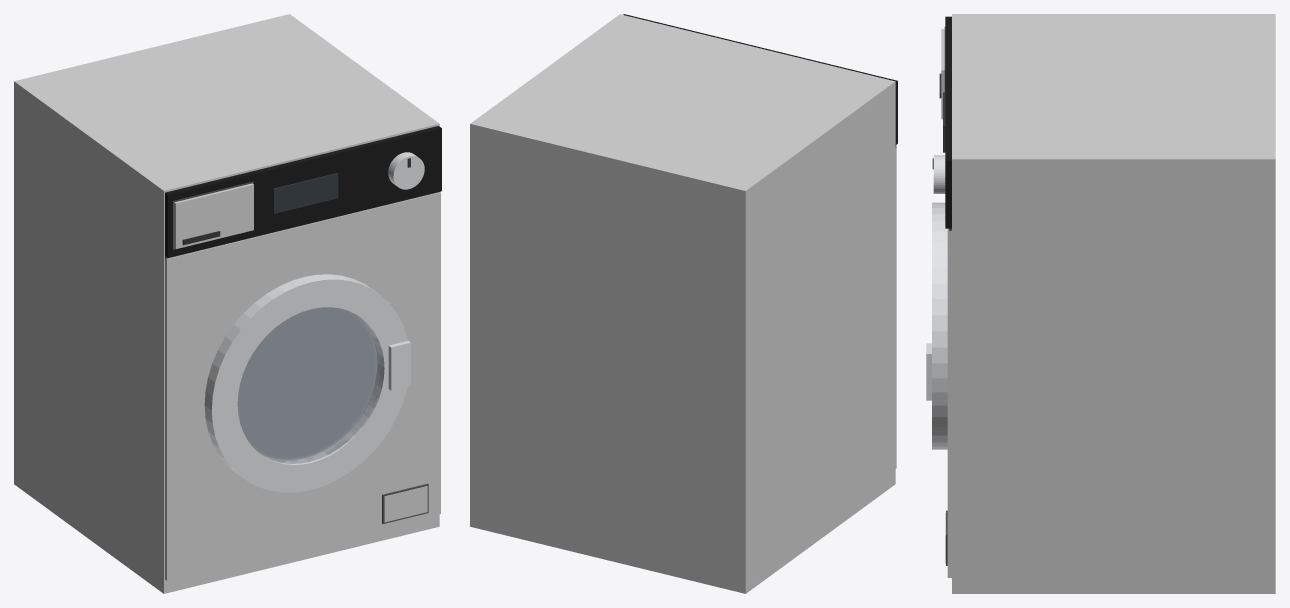
File: waschmaschine-edelstahl.glb
3 views of the same model, side by side, from view 1: azimuth 30°, elevation 25°; view 2: azimuth 150°, elevation 25°; view 3: azimuth 270°, elevation 25° (orthographic). The views are drawn at different scales.
Parts seen in each view (by area): view 1: Gehäuse, Chrom, Glas, Trommel, Bedienblende, Display, Fuge; view 2: Gehäuse, Bedienblende; view 3: Gehäuse, Chrom, Bedienblende.
Boxes of the visible parts, x1,y1,x2,y2 form: Gehäuse: (14,14,440,593); Chrom: (204,152,424,492); Glas: (237,307,383,463); Trommel: (238,307,375,457); Bedienblende: (165,126,441,257); Display: (273,158,410,213); Fuge: (165,181,439,523); Gehäuse: (470,14,896,593); Bedienblende: (623,14,897,144); Gehäuse: (941,14,1275,593); Chrom: (926,155,947,449); Bedienblende: (945,16,951,228).
Bounding box in the file's own units: 0.6 × 0.85 × 0.61.
